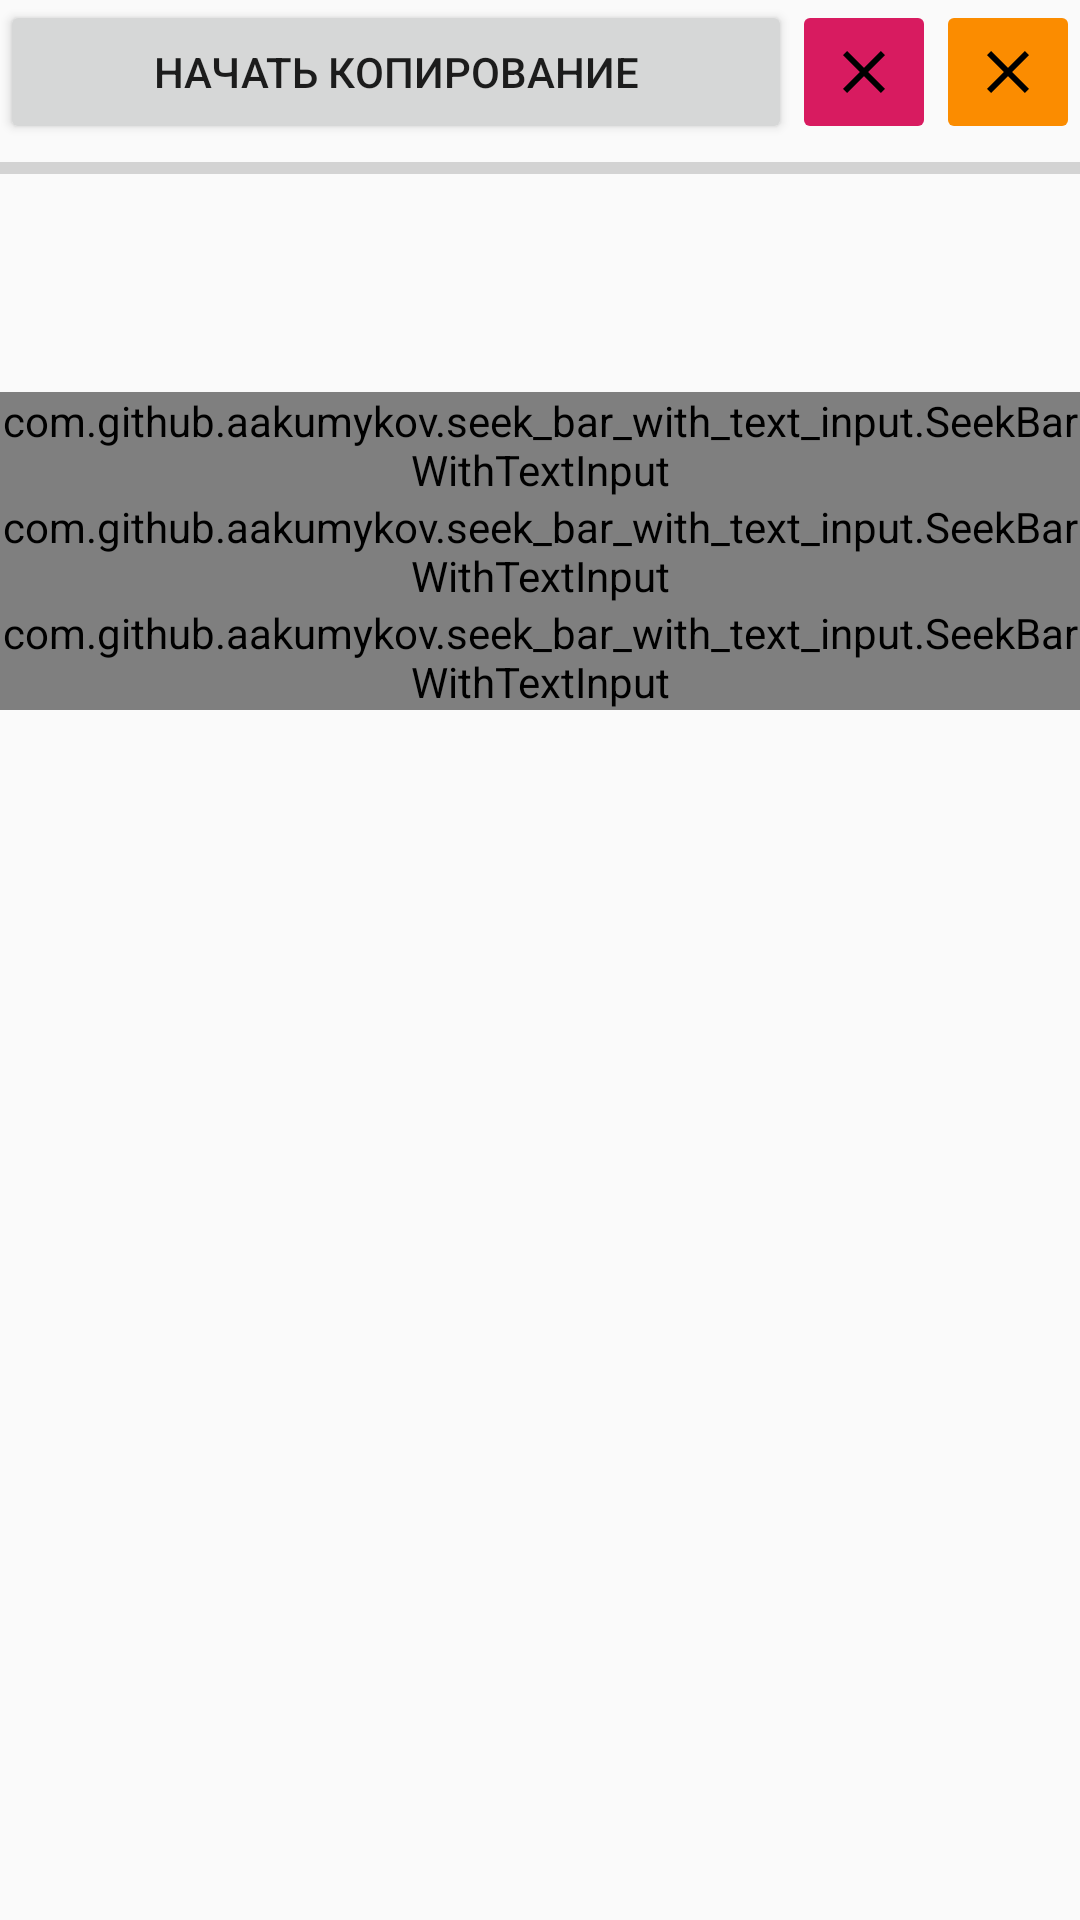

Icon click points for this 1080px×1920px phone screenshot, format (x,y):
close: (864,72), (1008,72)
